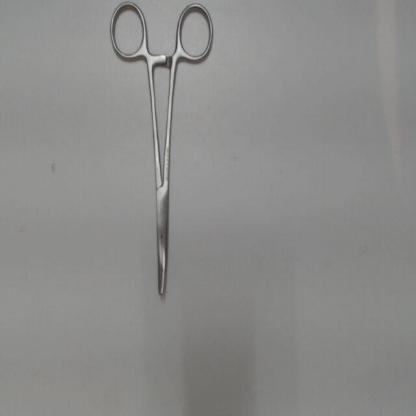Crile Artery Forceps: (108, 1, 219, 304)
